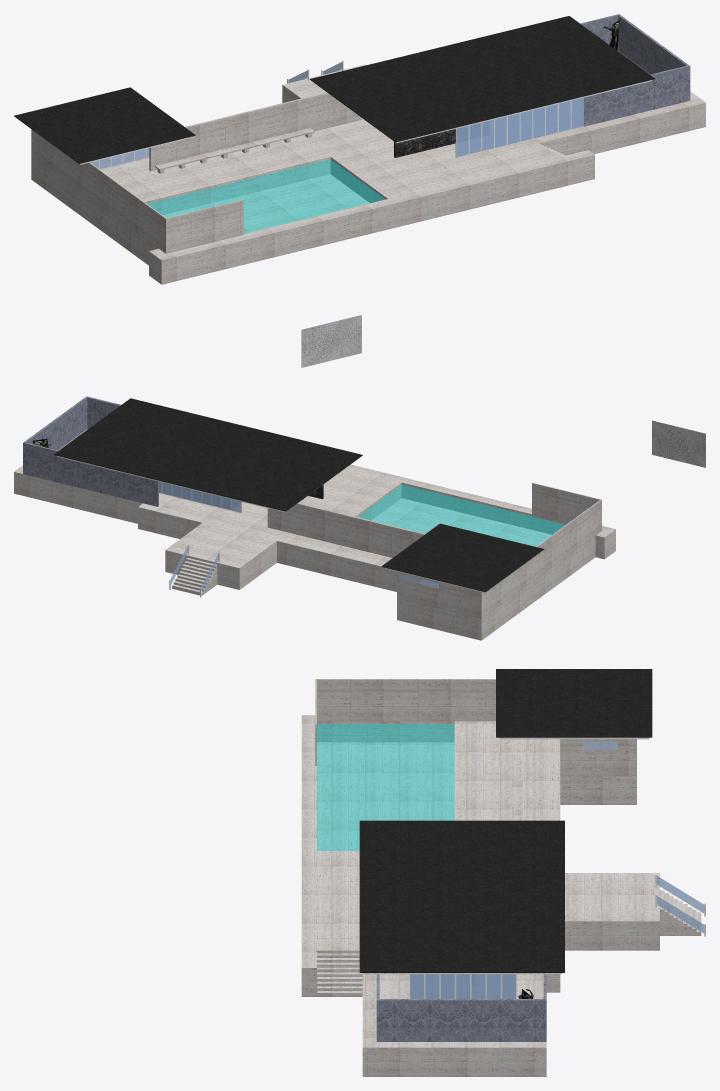
File: low version pavillion_export gltf.glb
The picture shows the model from 3 angles, top to bottom: view 1: azimuth 30°, elevation 25°; view 2: azimuth 150°, elevation 25°; view 3: azimuth 270°, elevation 25°; orthographic projection. The views are drawn at different scales.
Visible parts, largest first — view 1: group_3.001, group_23, group_4, group_20, group_0, group_1, group_5, group_3.013, group_3.014, group_6, SketchUp.010, group_27 (+2 smaller); view 2: group_3.001, group_23, group_20, group_5, group_4, group_0, group_1, group_3.013, group_3.014, group_12, SketchUp.010, group_13 (+1 smaller); view 3: group_3.001, group_23, group_4, group_3.013, group_20, group_0, group_5, group_3.014, group_12, group_3, group_7.001, group_13 (+1 smaller).
Boxes of the visible parts, <box> form: group_3.001: <box>31,64,705,284</box>; group_23: <box>310,16,654,142</box>; group_4: <box>147,159,384,233</box>; group_20: <box>14,87,195,163</box>; group_0: <box>31,129,243,253</box>; group_1: <box>149,92,361,170</box>; group_5: <box>580,14,690,126</box>; group_3.013: <box>163,174,369,233</box>; group_3.014: <box>144,157,387,214</box>; group_6: <box>457,98,582,156</box>; SketchUp.010: <box>301,315,361,367</box>; group_27: <box>155,128,314,170</box>; group_3.001: <box>14,464,615,640</box>; group_23: <box>53,398,362,511</box>; group_20: <box>381,523,544,592</box>; group_5: <box>23,396,158,506</box>; group_4: <box>358,485,565,546</box>; group_0: <box>480,482,601,618</box>; group_1: <box>267,503,425,557</box>; group_3.013: <box>371,498,551,546</box>; group_3.014: <box>355,482,567,534</box>; group_12: <box>397,571,481,618</box>; SketchUp.010: <box>652,420,705,467</box>; group_13: <box>172,557,217,595</box>; group_3.001: <box>301,715,659,1076</box>; group_23: <box>359,820,564,972</box>; group_4: <box>317,724,454,850</box>; group_3.013: <box>317,742,454,850</box>; group_20: <box>496,669,652,737</box>; group_0: <box>315,679,495,765</box>; group_5: <box>376,974,546,1041</box>; group_3.014: <box>317,721,454,742</box>; group_12: <box>560,739,636,775</box>; group_3: <box>317,775,636,996</box>; group_7.001: <box>411,975,515,998</box>; group_13: <box>660,890,701,935</box>.
Size of the model in its own units: 51.5 by 5.35 by 45.17.
Materials: 15 (11 with a texture image).
